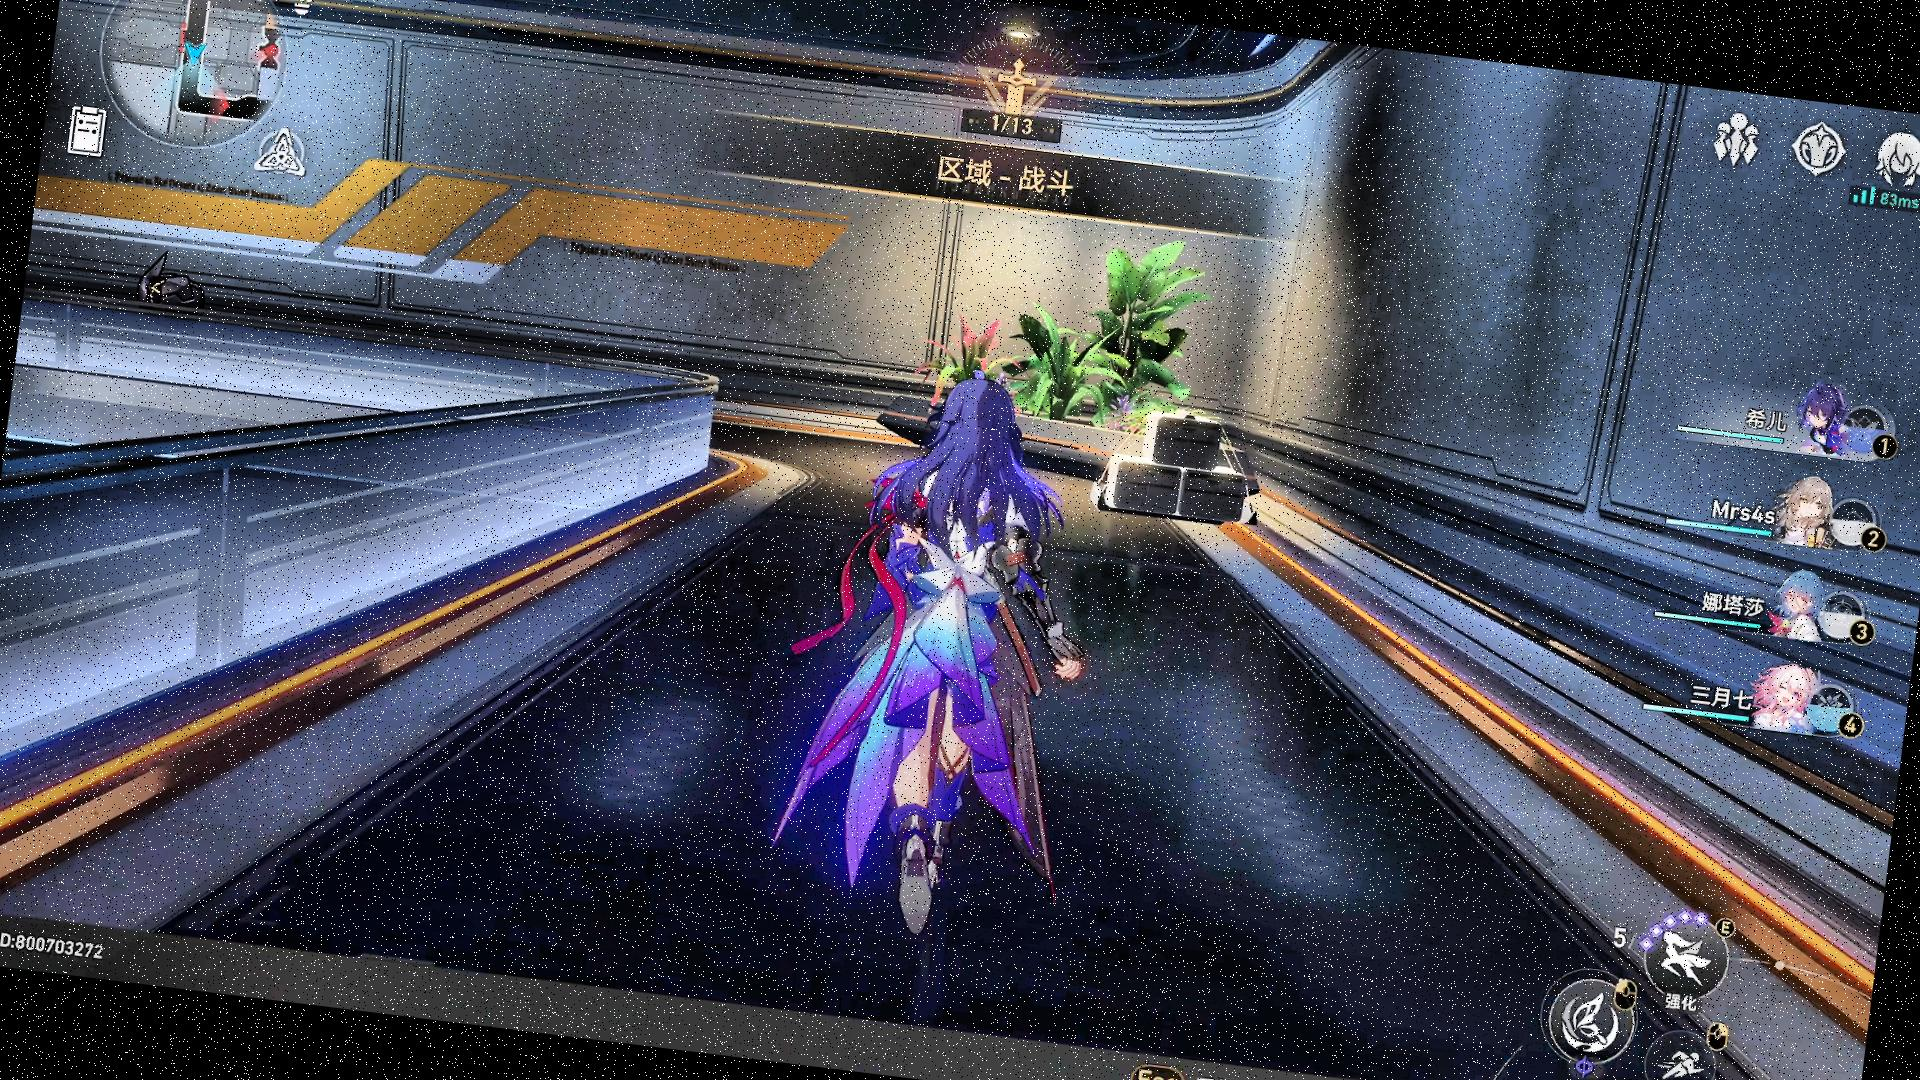Box: (1085, 400, 1269, 534)
Enemy: (120, 245, 219, 331)
Self: (760, 355, 1118, 957)
